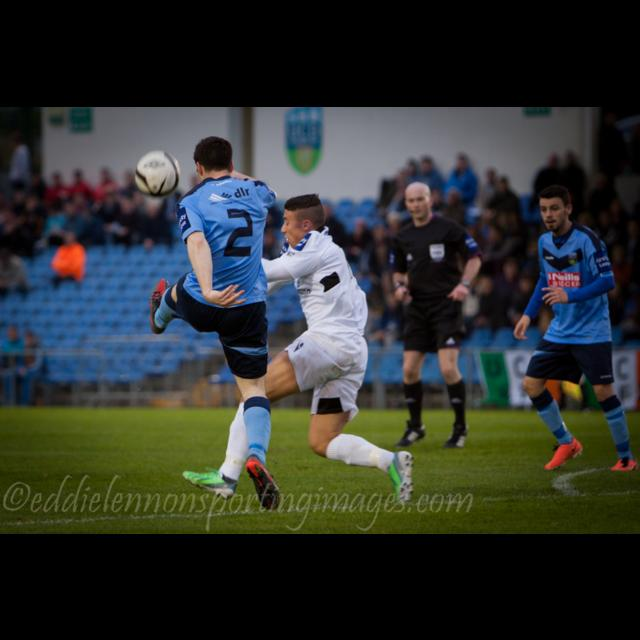Football: (136, 146, 180, 198)
